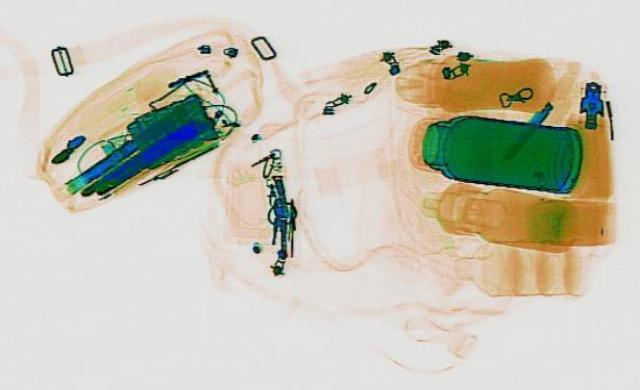Knife: (494, 98, 556, 160)
